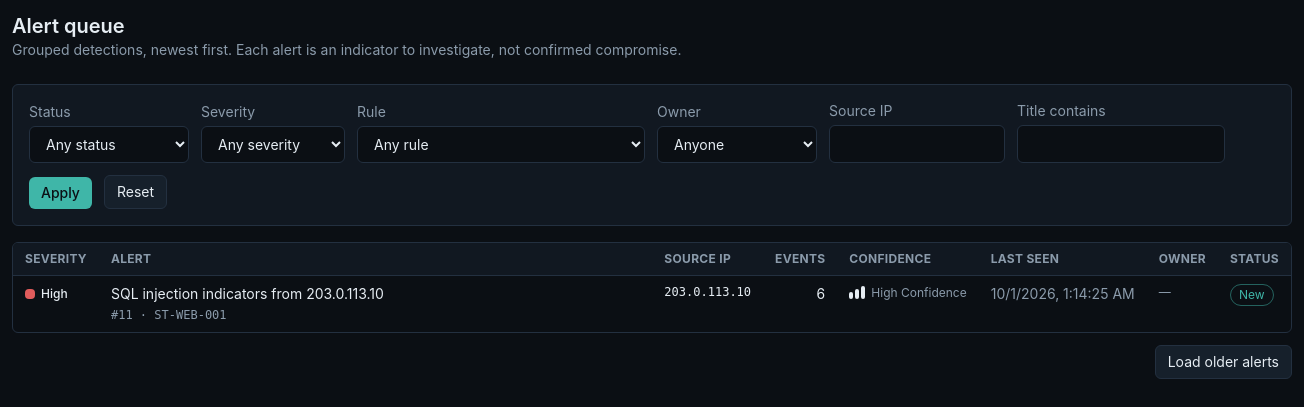
Scenario: AlertsPage › loads older alerts with keyset pagination
What coordinates should you click on to do the following:
click the button "Load older alerts"
I would click on:
 (1223, 362)
Its box is [1155,345,1292,379].
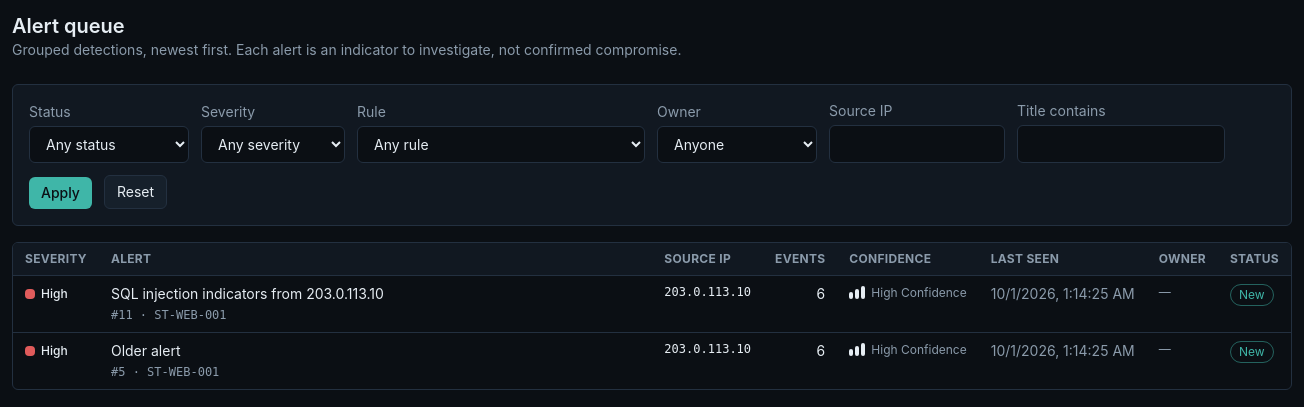
Check: the link "Older alert" is shown, box [111,342,180,359]
Check: the button "Load older alerts" is gone
